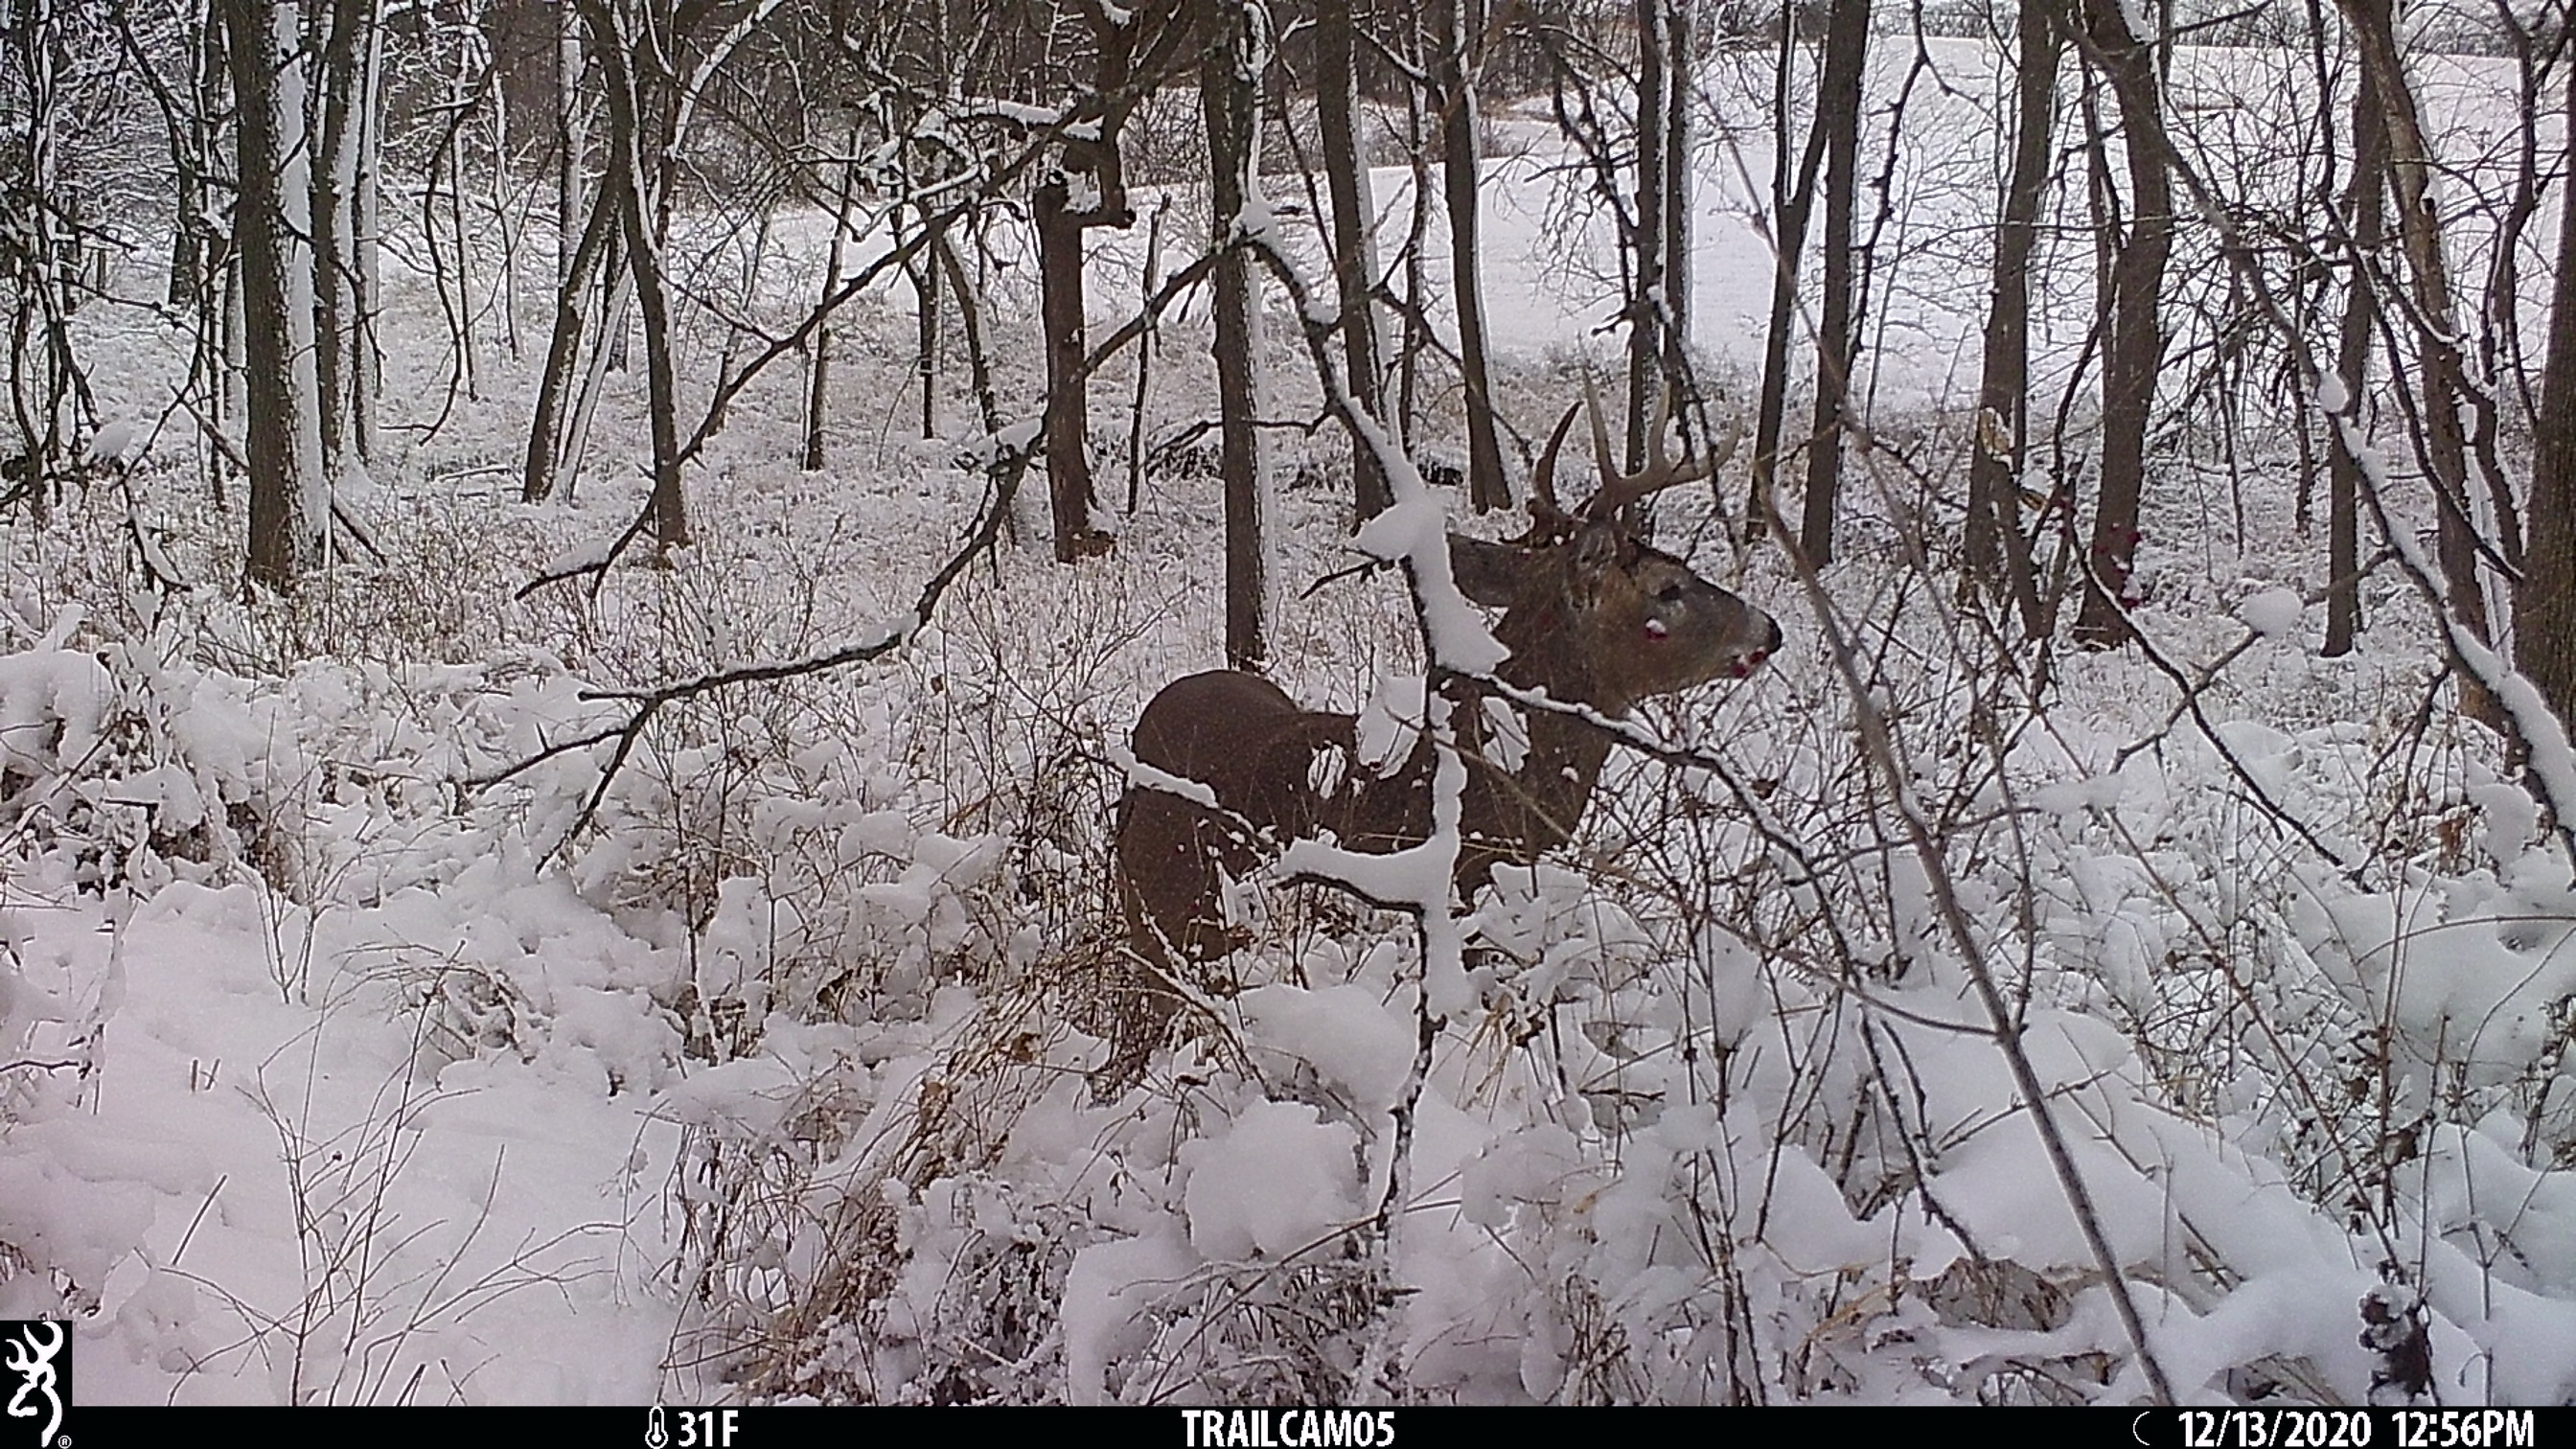DeerBuck: (1112, 320, 1786, 995)
DeerBuckHead: (1447, 318, 1791, 678)
